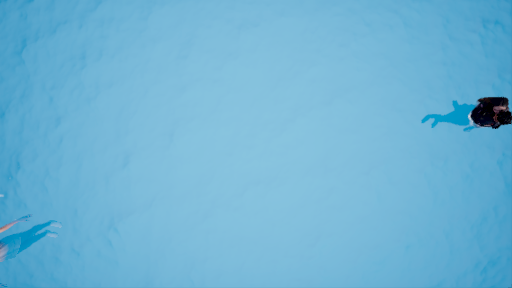person: (422, 92, 512, 133)
